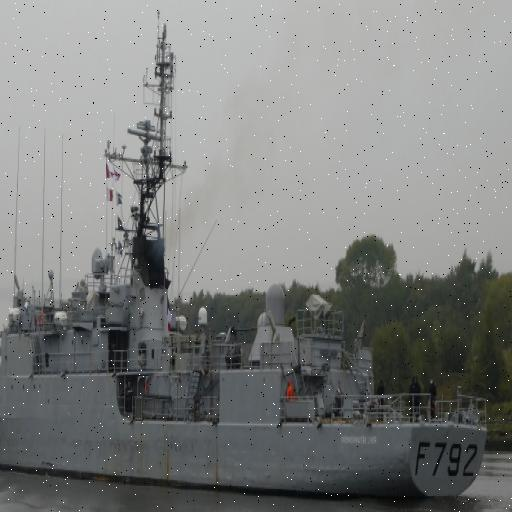Fragata: (1, 5, 488, 509)
